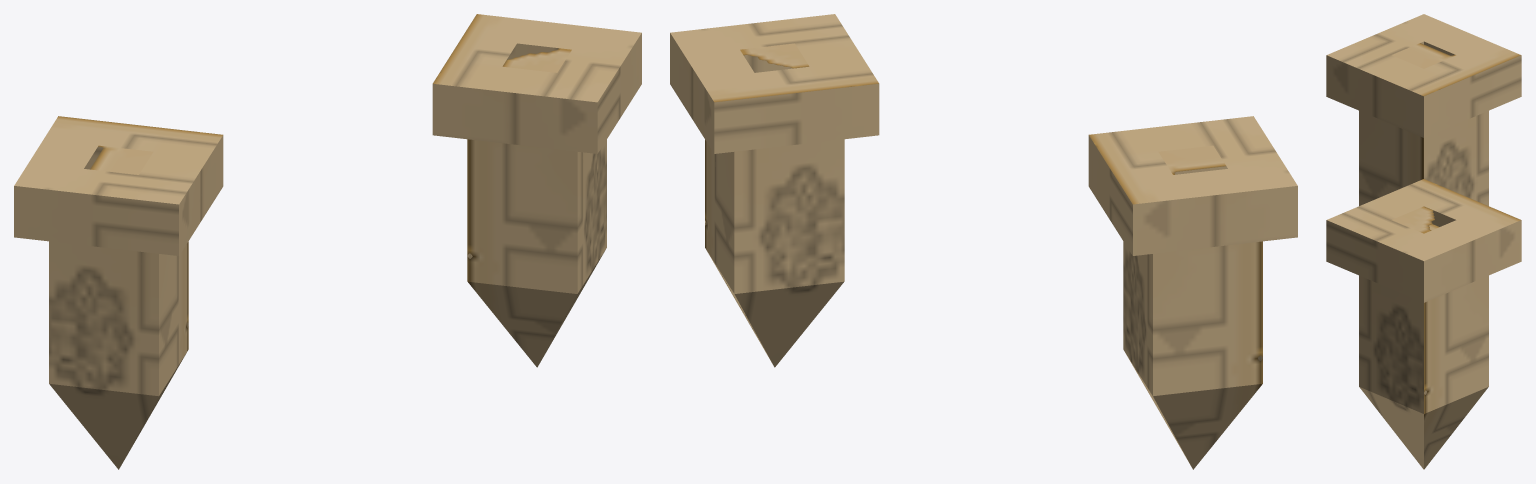
The model's file is manaweaving_altar_pedestal01.obj.
The picture shows the model from 3 angles, left to right: view 1: azimuth 30°, elevation 25°; view 2: azimuth 150°, elevation 25°; view 3: azimuth 270°, elevation 25°; orthographic projection. The views are drawn at different scales.
Visible parts, largest first — view 1: SHAPE_PEDISTAL_LOW_Cube.017; view 2: SHAPE_PEDISTAL_LOW_Cube.017; view 3: SHAPE_PEDISTAL_LOW_Cube.017.
Boxes of the visible parts, <box> form: SHAPE_PEDISTAL_LOW_Cube.017: <box>14,14,641,469</box>; SHAPE_PEDISTAL_LOW_Cube.017: <box>670,14,1297,469</box>; SHAPE_PEDISTAL_LOW_Cube.017: <box>1326,14,1521,469</box>.
Size of the model in its own units: 0.7955 by 0.375 by 0.2652.
